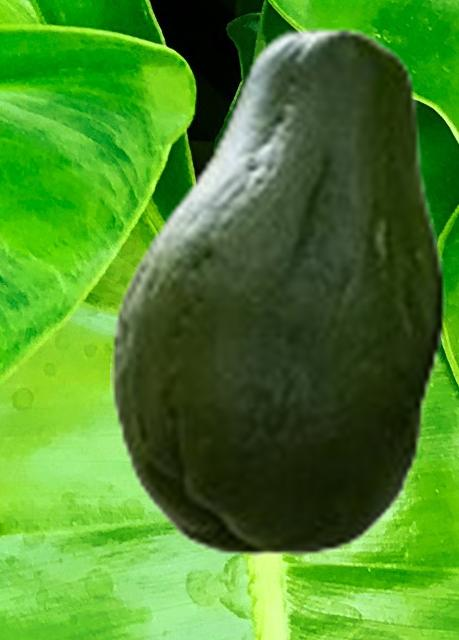sayote: (110, 26, 445, 555)
